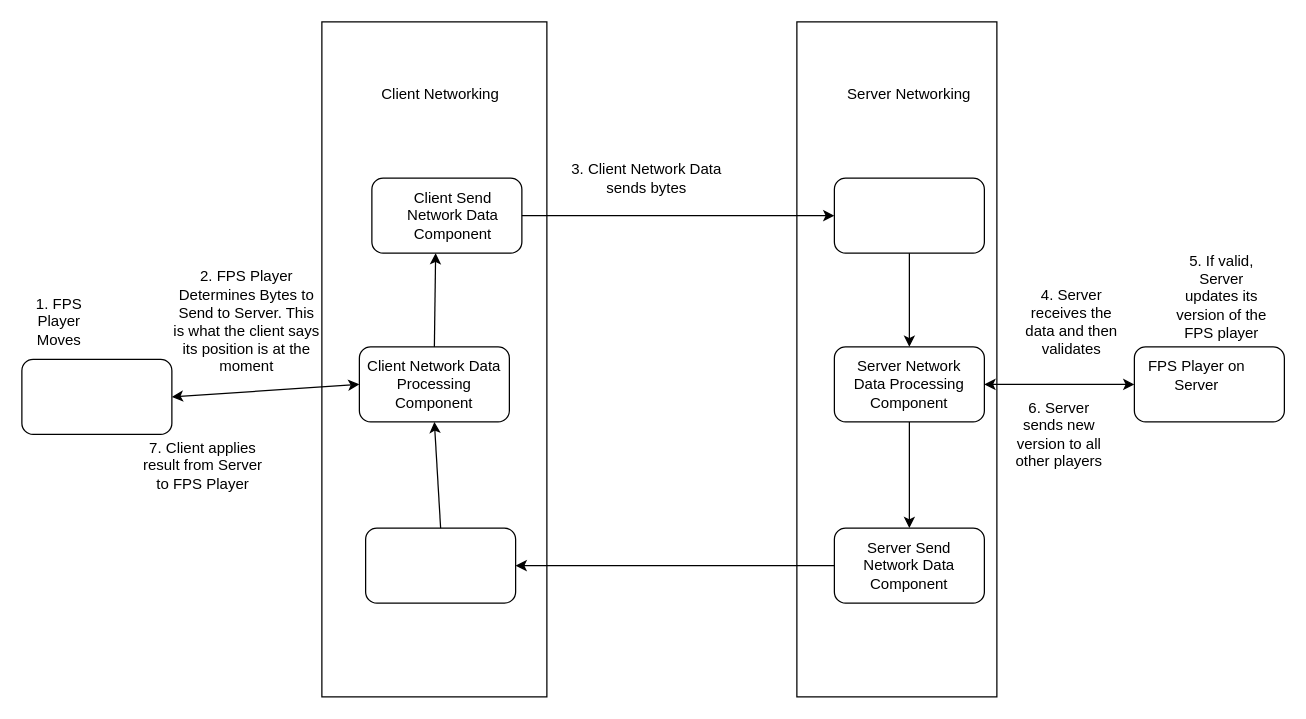
This 1306x719 diagram has some shape labels left out. Here are the shapes that lost their labels. From the top down, the centre of each, then its label:
point 908,215: Server Receive Network Data Component
point 96,396: FPS Player
point 440,565: Client Receive Network Data Component
